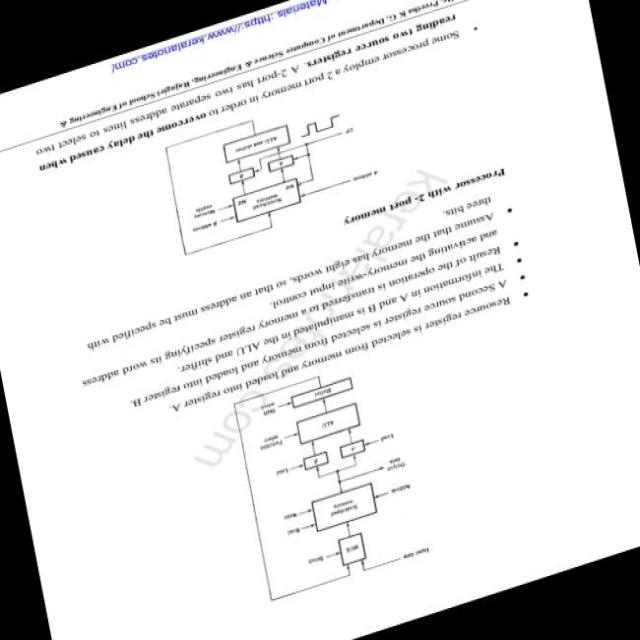Figure Detection - v3 Dataset Version2: (205, 344, 441, 628), (130, 73, 396, 274)
